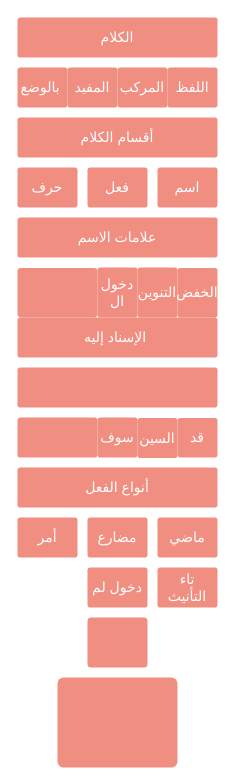
This 235x784 diagram has some shape labels left out. The centre of each missing label's shape, as x and y in pixels:
تاء التأنيث الساكنة: the point at 57,437
دخول حروف الخفض: the point at 57,292
علامات الفعل: the point at 117,387
يبدأ بأحد حروف أنيت: the point at 117,642
يضم أوله إذا كان ماضيه على أربعة أحرف؛ دحرج يُدحرج، أكرم يُكرم: the point at 117,722
